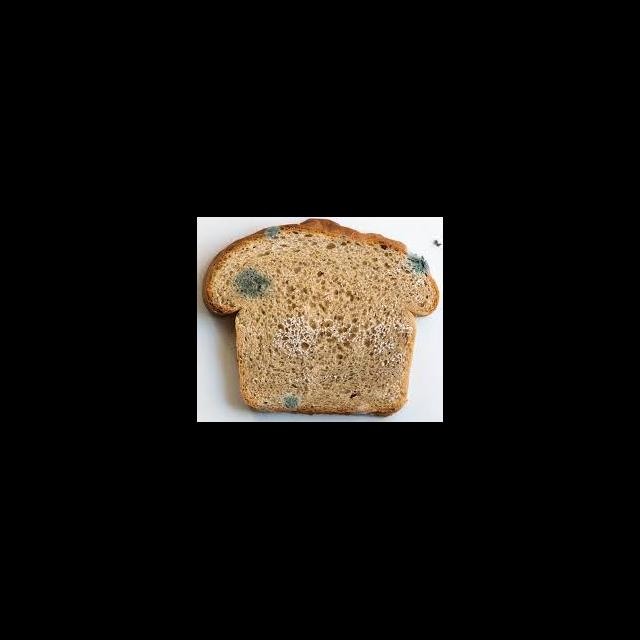food_waste: (205, 230, 438, 422)
